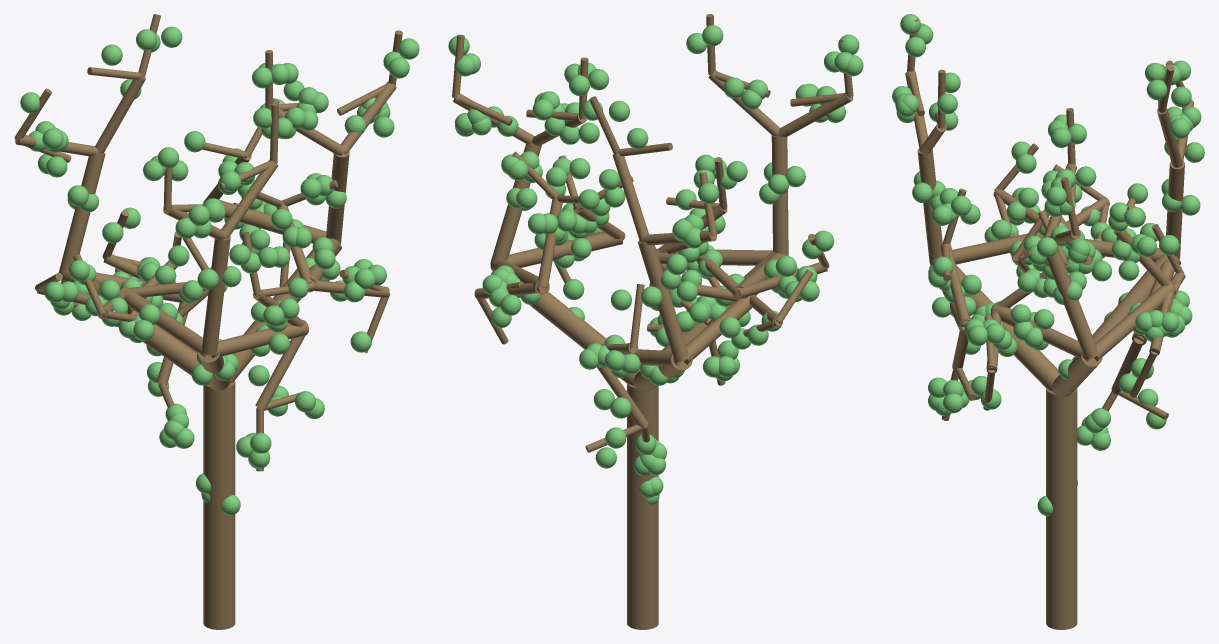
3 renders of one model, left to right at view 1: azimuth 30°, elevation 25°; view 2: azimuth 150°, elevation 25°; view 3: azimuth 270°, elevation 25°, orthographic. The views are drawn at different scales.
Parts seen in each view (by area): view 1: object 1, Branch_D2.008, Branch_D2.004, Branch_D1.001, Branch_D2.006, Branch_D2.007, Branch_D2, Branch_D3.008, Branch_D3.016, Branch_D3.013, Branch_D2.001, Branch_D1 (+4 smaller); view 2: object 1, Branch_D2.004, Branch_D1, Branch_D2.008, Branch_D2.002, Branch_D2, Branch_D2.005, object 253, Branch_D3.008, Branch_D3.017, Branch_D2.006, Branch_D3.003 (+5 smaller); view 3: object 1, Branch_D2, Branch_D1.002, Branch_D2.001, Branch_D1.001, Branch_D2.008, Branch_D2.007, Branch_D2.004, Branch_D2.002, Branch_D1, Branch_D3.012, Branch_D3.008 (+2 smaller).
Boxes of the visible parts, box(x1,y1,x2,y2) form: object 1: box(203, 380, 235, 629); Branch_D2.008: box(202, 236, 230, 355); Branch_D2.004: box(58, 153, 105, 273); Branch_D1.001: box(61, 280, 208, 384); Branch_D2.006: box(211, 320, 308, 358); Branch_D2.007: box(121, 287, 206, 357); Branch_D2: box(326, 151, 349, 242); Branch_D3.008: box(95, 77, 145, 153); Branch_D3.016: box(221, 159, 277, 238); Branch_D3.013: box(255, 335, 305, 410); Branch_D2.001: box(219, 200, 326, 243); Branch_D1: box(230, 236, 341, 383); object 1: box(627, 383, 658, 629); Branch_D2.004: box(637, 240, 688, 362); Branch_D1: box(491, 260, 640, 385); Branch_D2.008: box(771, 135, 788, 255); Branch_D2.002: box(507, 232, 622, 267); Branch_D2: box(490, 142, 541, 263); Branch_D2.005: box(684, 294, 754, 364); object 253: box(508, 160, 796, 276); Branch_D3.008: box(612, 153, 648, 241); Branch_D3.017: box(778, 92, 853, 137); Branch_D2.006: box(656, 248, 772, 265); Branch_D3.003: box(538, 197, 562, 288); object 1: box(1046, 388, 1077, 629); Branch_D2: box(1046, 246, 1097, 359); Branch_D1.002: box(929, 256, 1059, 390); Branch_D2.001: box(1094, 283, 1176, 361); Branch_D1.001: box(1072, 254, 1180, 359); Branch_D2.008: box(917, 149, 942, 261); Branch_D2.007: box(952, 232, 1043, 264); Branch_D2.004: box(1166, 161, 1184, 258); Branch_D2.002: box(991, 304, 1089, 361); Branch_D1: box(1052, 354, 1102, 397); Branch_D3.012: box(940, 244, 969, 326); Branch_D3.008: box(1157, 108, 1182, 167).
Size of the model in its own units: 8.03 by 11.79 by 6.04.
